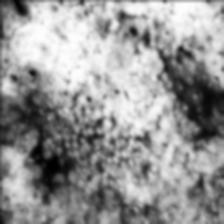Potentially Malignant Skin Tumors: (20, 108, 78, 192), (176, 66, 224, 134)
